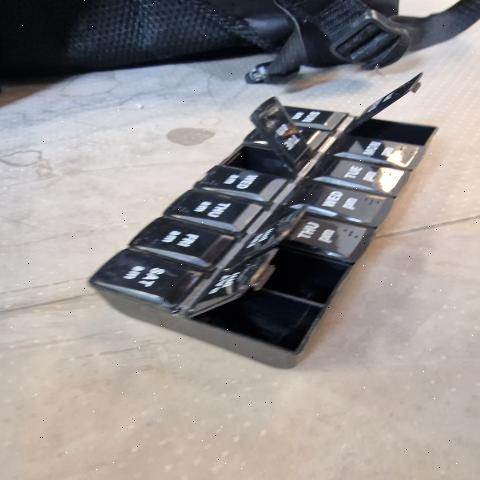Open: (185, 254, 319, 357), (271, 208, 347, 303), (346, 73, 437, 144), (223, 118, 294, 180)
